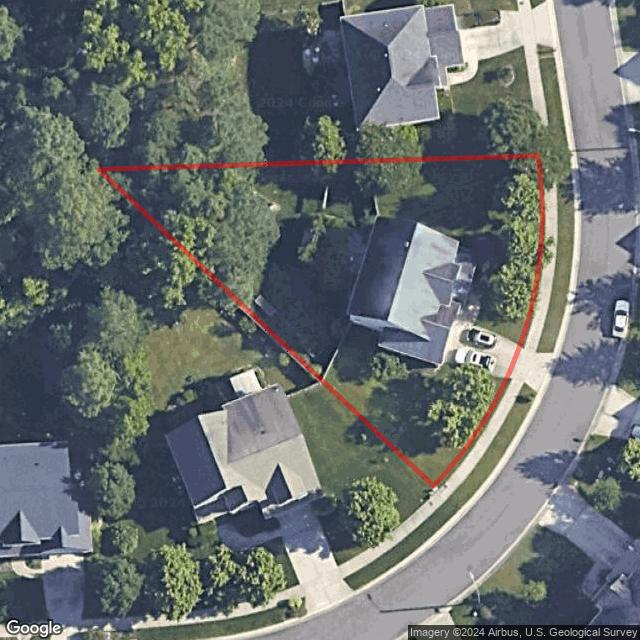Driveway: (443, 317, 521, 378)
Extra-Driveway: (508, 344, 561, 397)
Extra-Lawn: (447, 382, 538, 510), (432, 378, 513, 490), (434, 378, 512, 490), (536, 154, 575, 353)
Extra-Sidewalk: (438, 380, 525, 499), (523, 155, 558, 352)
House: (346, 216, 481, 365)
Lawn: (100, 156, 542, 485)
Other: (103, 164, 273, 303), (297, 220, 369, 290), (459, 288, 480, 323)
